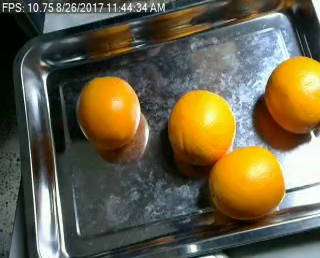Orange: (209, 145, 285, 218), (167, 88, 234, 165), (75, 76, 140, 148), (264, 55, 320, 136)
